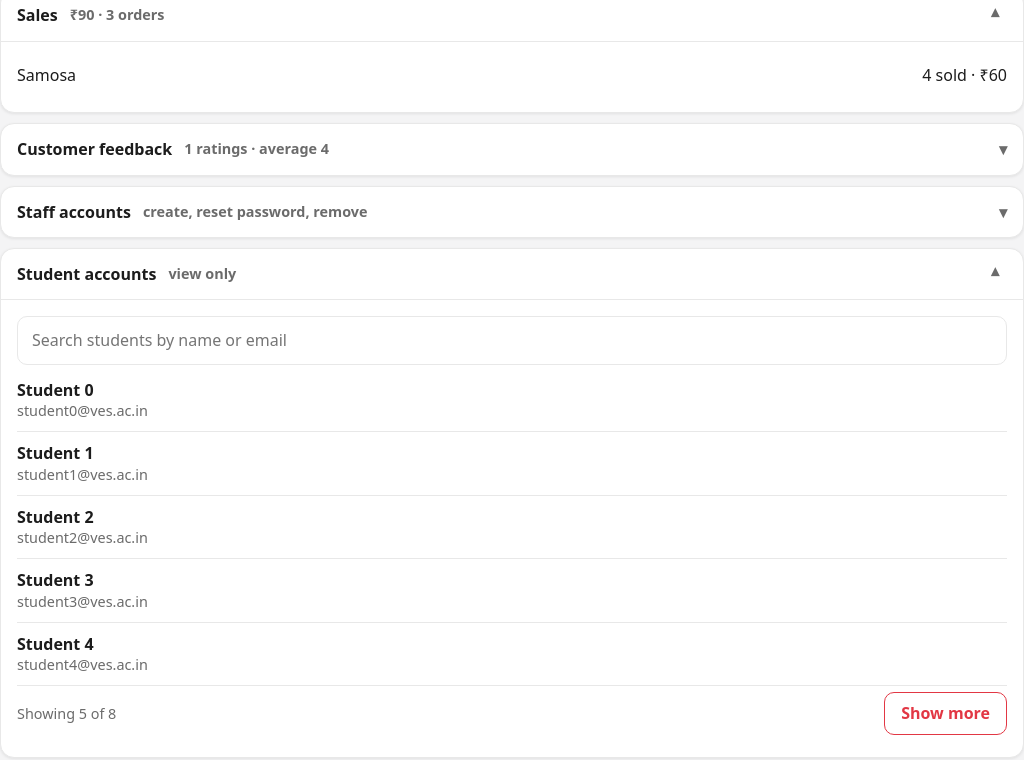
Test: owner accounts screen › does not load or show student accounts until the section is opened, then pages them
(page scrolled)
Expected: the text "Student 0" is shown, [17, 379, 94, 401]
Expected: the text "Showing 5 of 8" is shown, [17, 704, 116, 724]
Click the button "Show more": click(946, 714) [884, 692, 1007, 735]
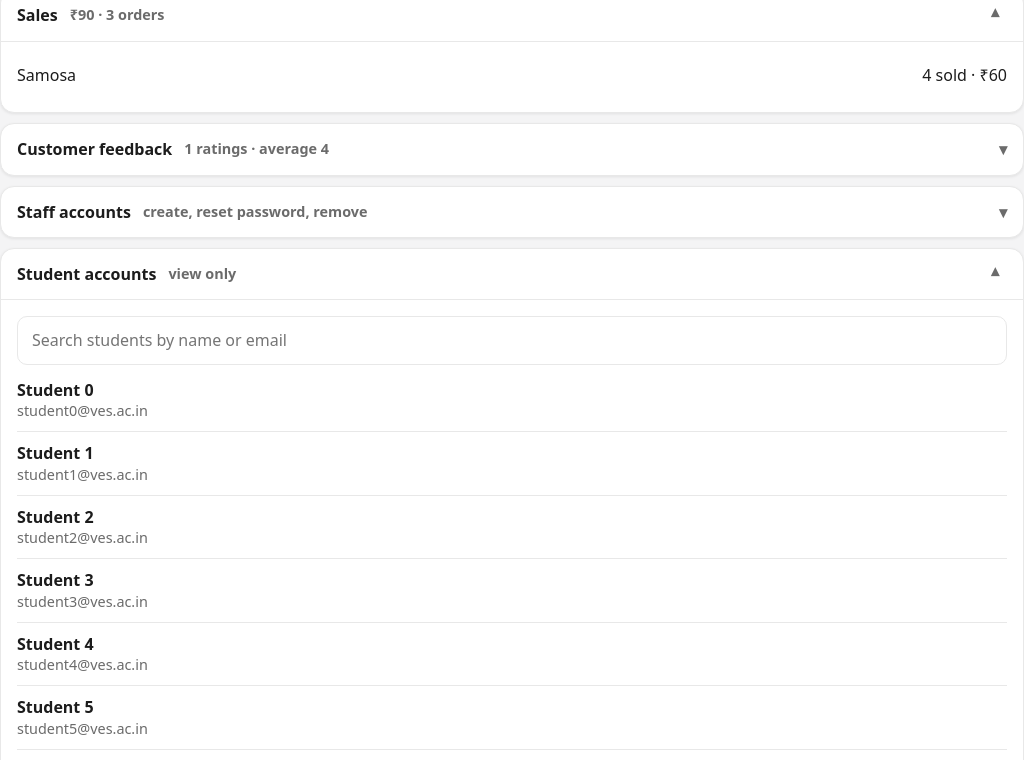
In the search field labelled "Search students": (512, 340) [17, 316, 1007, 365], type "student3"
(page scrolled)
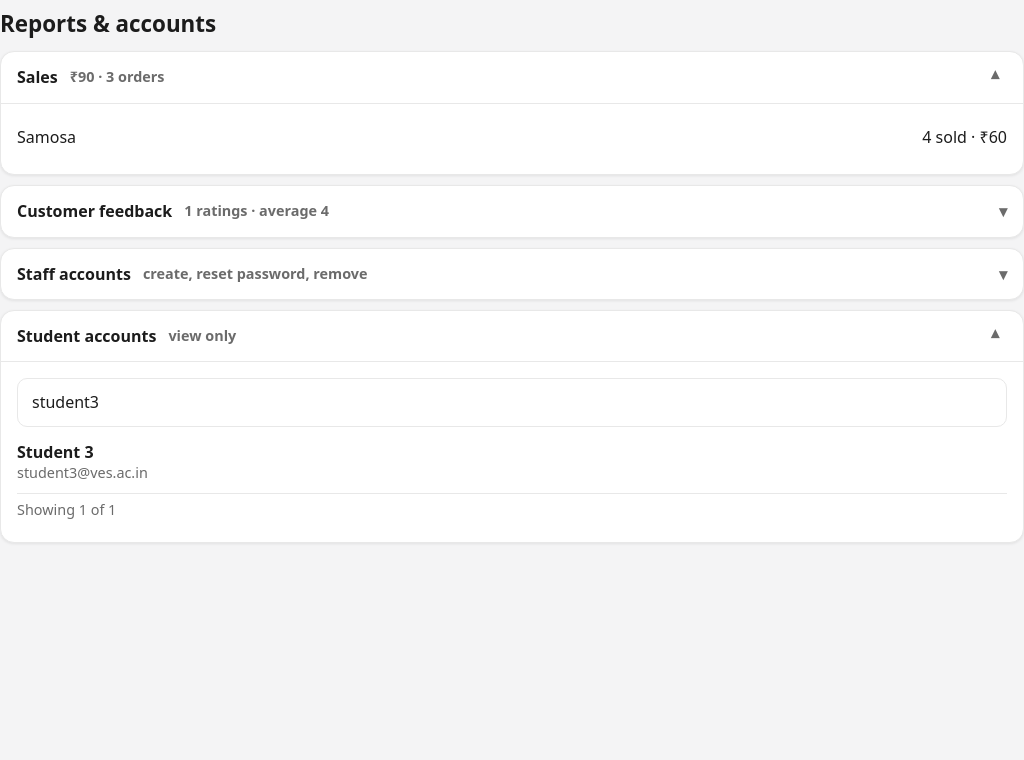
Expected: the text "Student 3" is shown, [17, 441, 94, 463]
Expected: the text "Student 0" is gone
